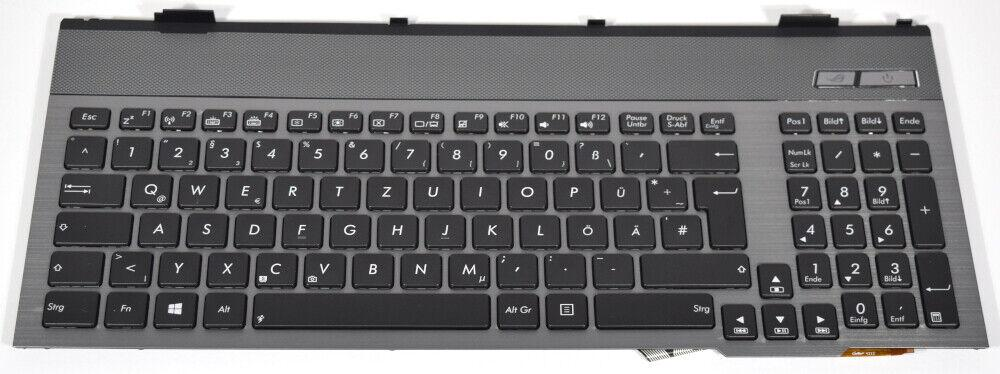0: (528, 138, 569, 171)
1: (110, 134, 152, 168)
2: (157, 135, 199, 169)
3: (203, 136, 245, 170)
4: (250, 137, 291, 170)
5: (296, 137, 338, 171)
6: (342, 137, 384, 171)
7: (389, 137, 430, 171)
8: (435, 138, 476, 172)
9: (481, 138, 523, 172)
a: (136, 210, 180, 246)
accent: (620, 138, 660, 171)
ae: (613, 212, 655, 248)
alt-left: (201, 290, 247, 328)
altgr-right: (494, 290, 540, 329)
b: (350, 251, 395, 287)
c: (253, 250, 298, 287)
caret: (63, 134, 105, 167)
comma: (494, 251, 537, 287)
d: (232, 211, 276, 248)
del: (666, 137, 738, 172)
e: (224, 173, 266, 208)
enter: (692, 173, 746, 248)
f: (280, 212, 323, 248)
g: (327, 212, 371, 248)
h: (376, 212, 418, 248)
hash: (658, 212, 703, 248)
i: (458, 175, 500, 209)
j: (423, 212, 466, 248)
k: (470, 212, 513, 248)
keyboard: (27, 96, 977, 343)
l: (518, 213, 560, 248)
less: (108, 249, 153, 286)
m: (446, 251, 491, 289)
minus: (590, 252, 634, 287)
n: (398, 251, 443, 288)
o: (505, 175, 547, 210)
oe: (565, 213, 608, 248)
p: (552, 175, 594, 210)
plus: (644, 175, 687, 209)
point: (542, 252, 585, 287)
q: (129, 171, 173, 206)
r: (271, 174, 313, 209)
s: (184, 211, 228, 247)
shift-left: (45, 248, 103, 285)
shift-lock: (52, 208, 132, 244)
shift-right: (638, 251, 751, 286)
space: (250, 291, 491, 328)
ss: (574, 138, 615, 171)
strg-left: (38, 288, 100, 327)
strg-right: (594, 291, 716, 327)
t: (318, 174, 359, 209)
tab: (57, 171, 124, 206)
u: (412, 174, 454, 210)
ue: (599, 175, 641, 209)
v: (302, 251, 346, 288)
w: (176, 172, 219, 207)
x: (205, 250, 249, 287)
y: (156, 250, 201, 286)
z: (365, 174, 407, 209)
